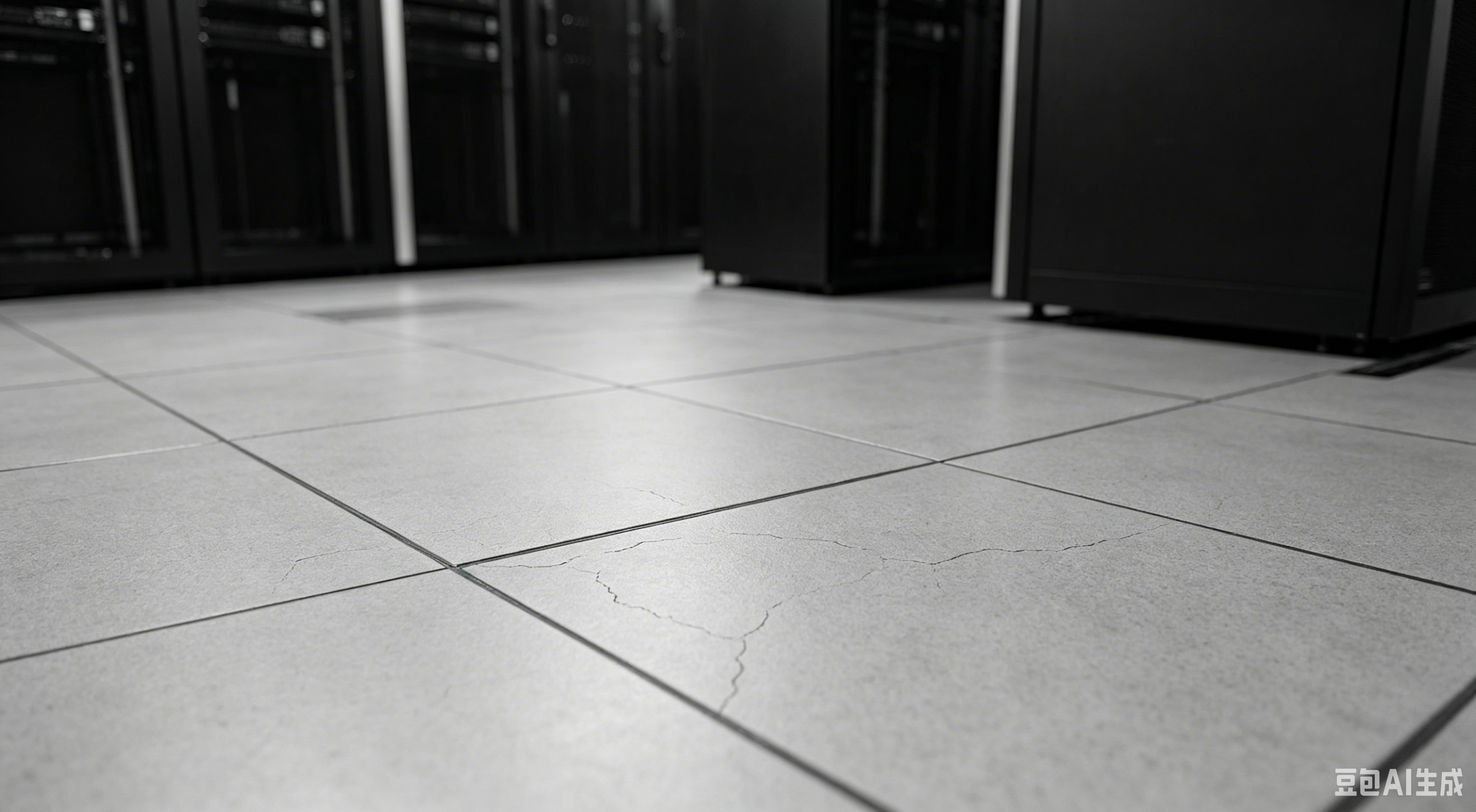floor_defect: (908, 528, 1157, 574), (621, 515, 795, 566), (589, 568, 714, 638), (456, 553, 627, 577), (718, 631, 759, 730), (758, 577, 781, 652)
